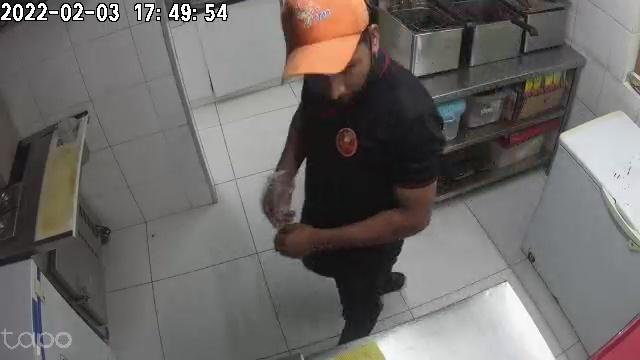gloves: (259, 161, 299, 226)
no_gloves: (272, 228, 327, 262)
